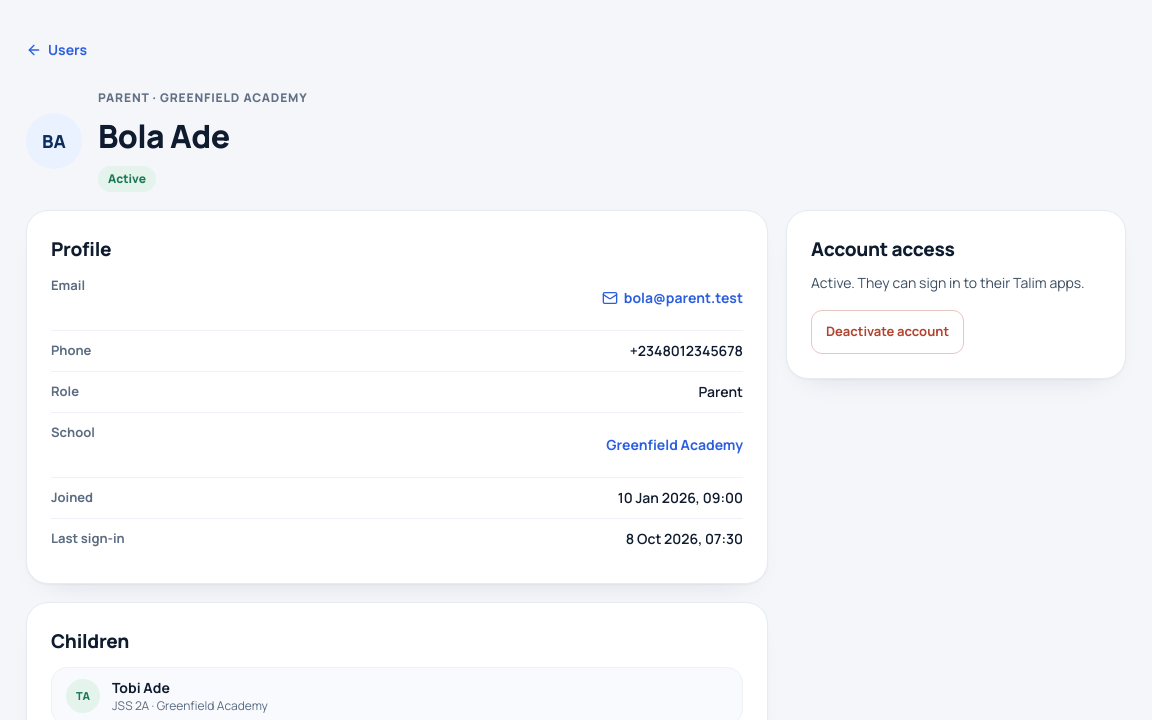
it: User detail › explains a 409 SELF refusal inside the sheet
The width and height of the screenshot is (1152, 720).
Click the button "Deactivate account" at (888, 332), box [811, 310, 964, 354]
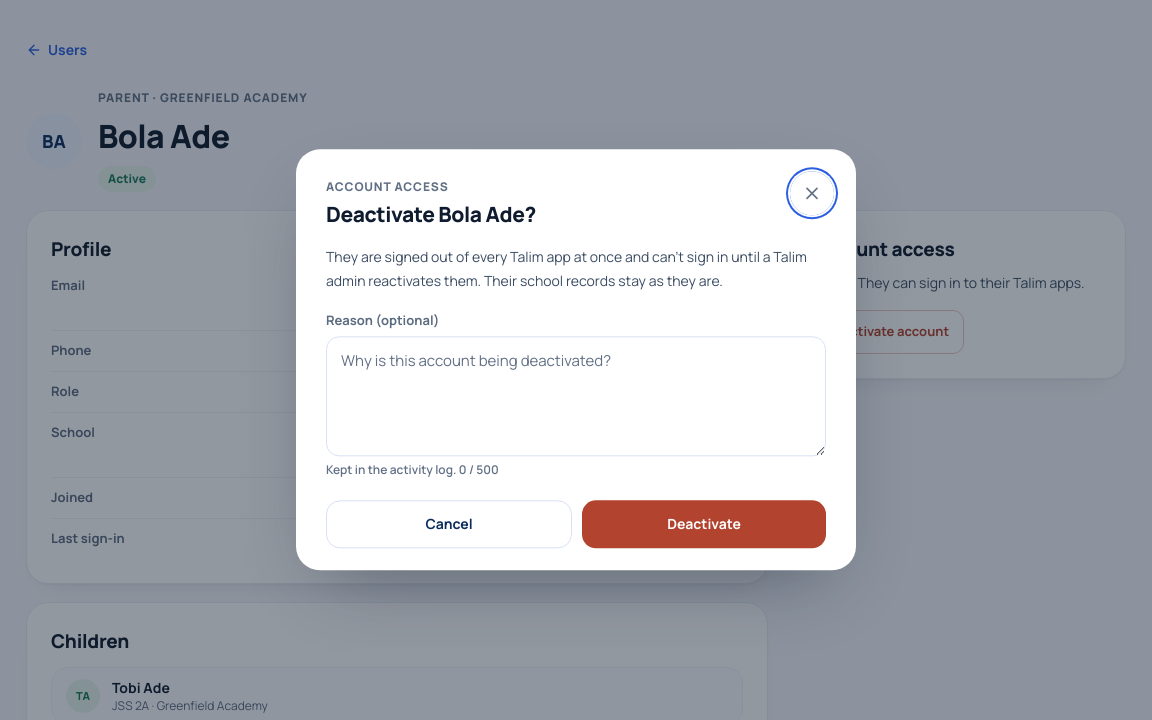
Click the button "Deactivate" at (704, 525), box [582, 501, 826, 549]
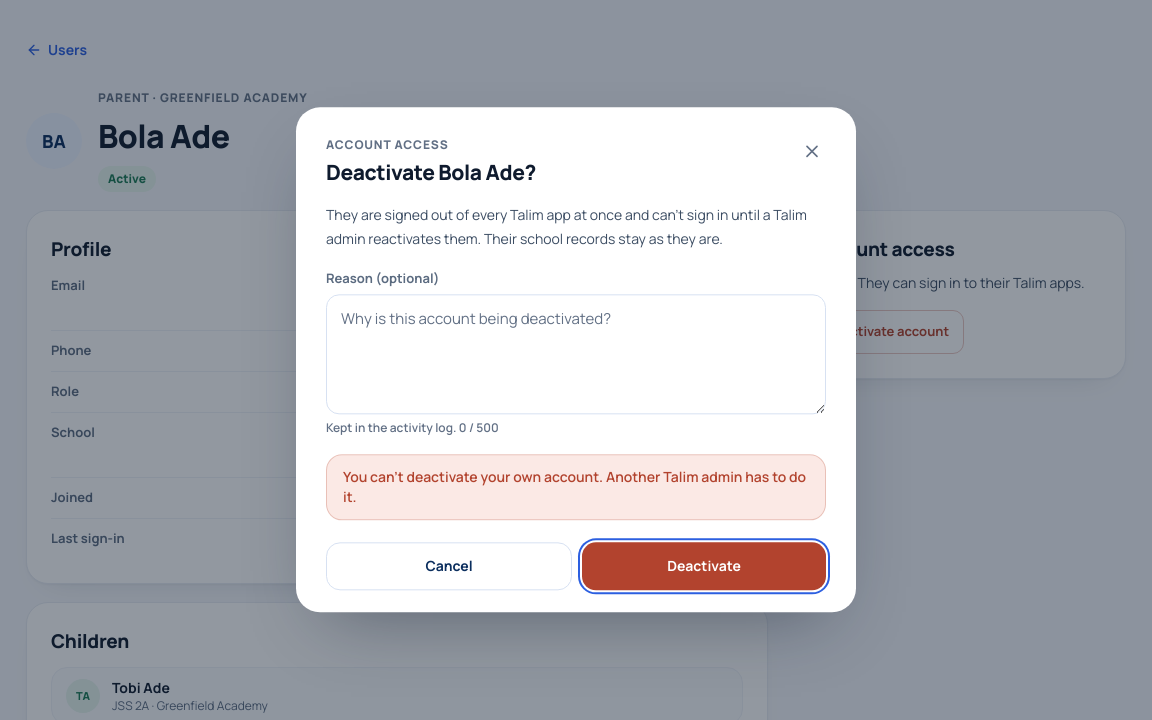
Now the dialog is shown, box [296, 107, 856, 613]
Now the message shows "can’t deactivate your own account", box [343, 468, 806, 507]
